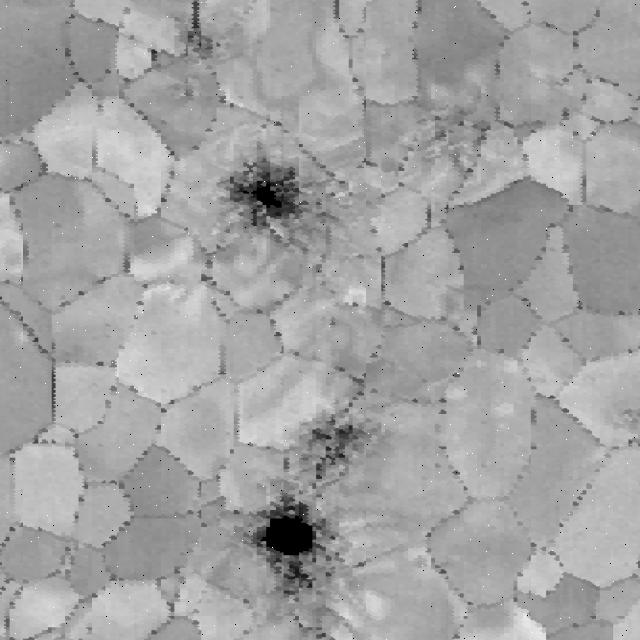good_void: (250, 480, 359, 583), (211, 146, 329, 230), (411, 105, 493, 181), (135, 26, 230, 79), (304, 418, 369, 474)
